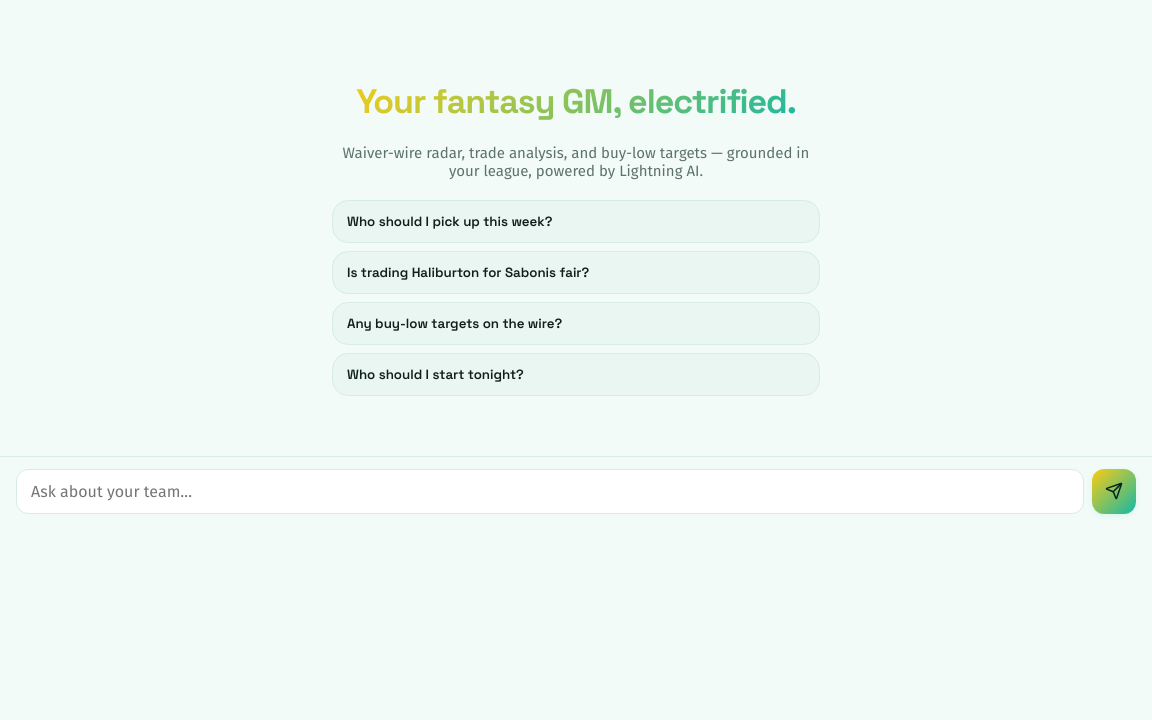
Test: ChatView › sends a message and renders the streamed answer
The width and height of the screenshot is (1152, 720).
Type "who do I add?" into the text box at (550, 491), box [16,469,1084,514]
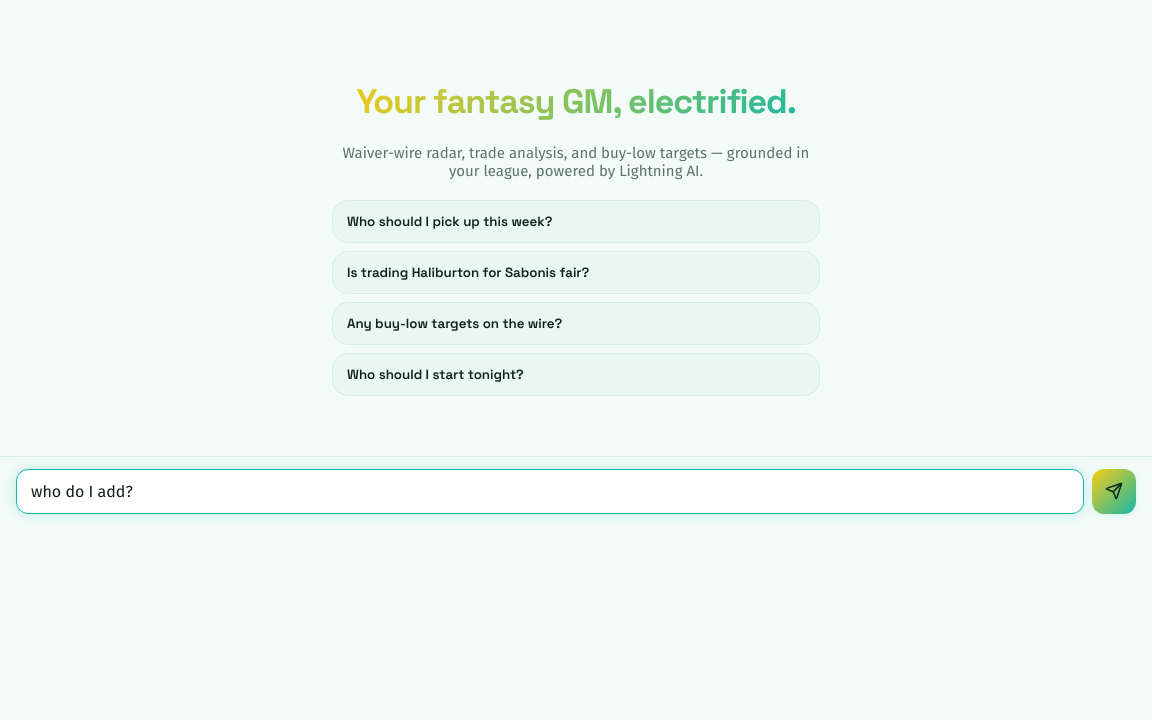
Click the button named "send" at (1114, 491), box [1092,469,1136,514]
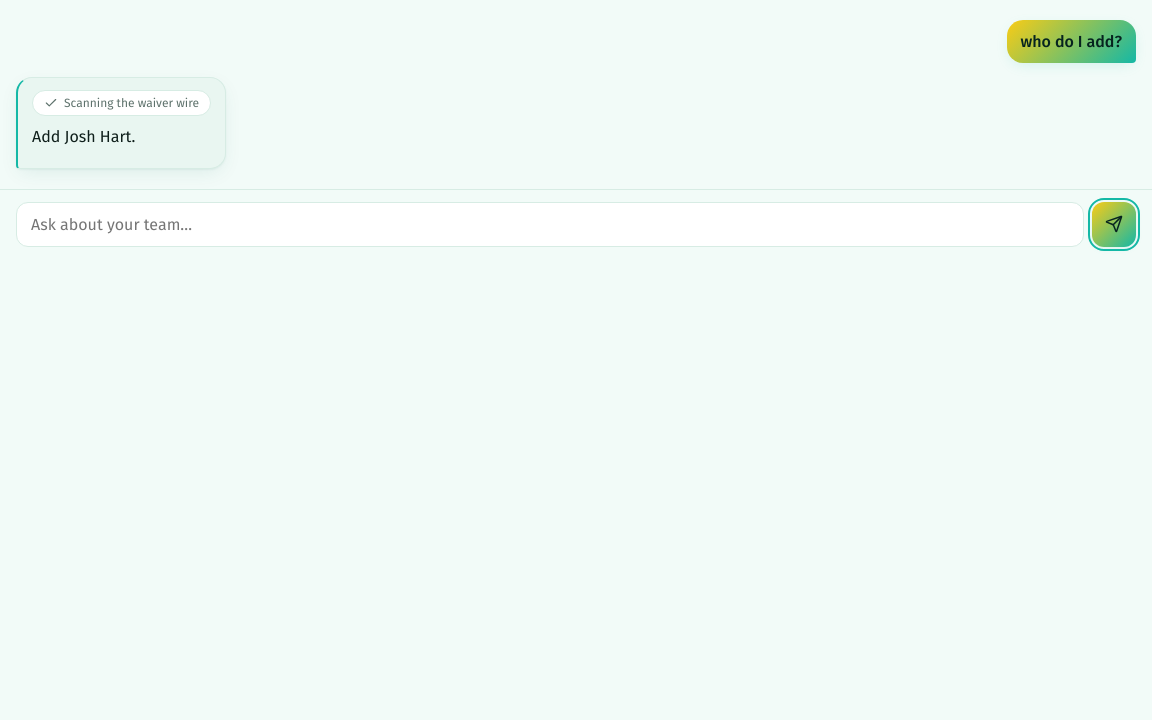
Now the text "Add Josh Hart." is shown, box [32,127,135,146]
Now the text "Scanning the waiver wire" is shown, box [32,90,211,116]
